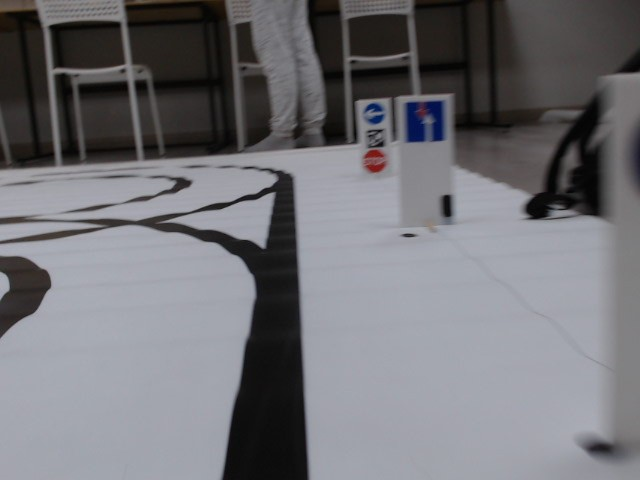Stop: (362, 150, 386, 173)
priority_movement: (404, 100, 445, 144)
